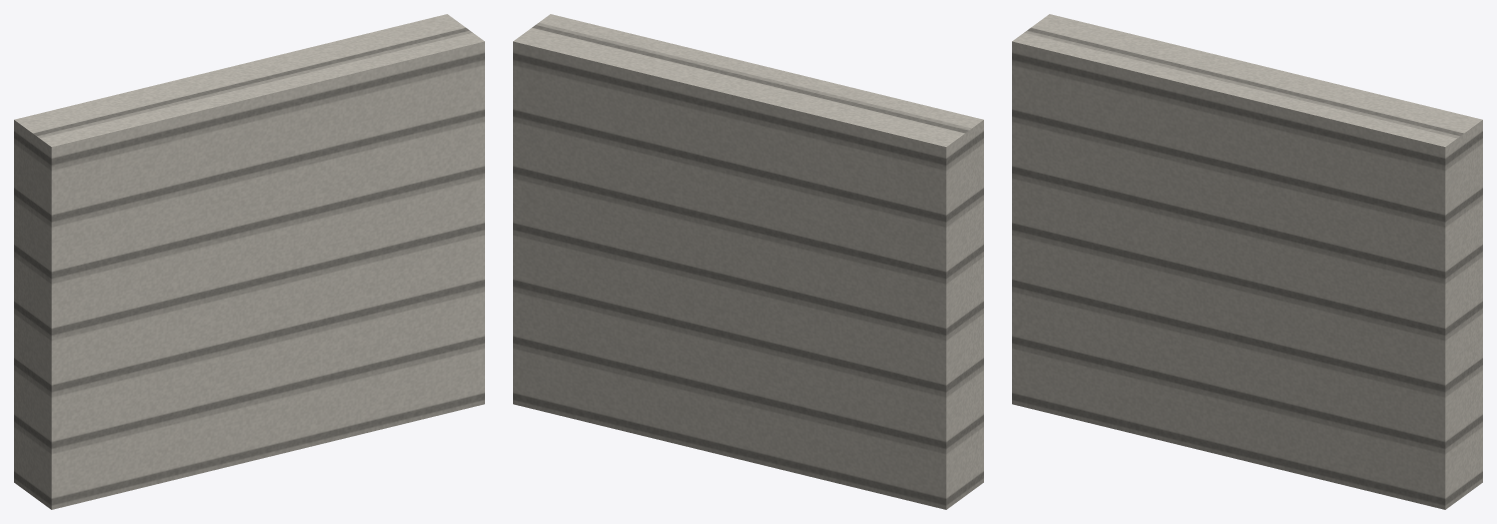
Rendered from mail_cubby_key_rack.glb.
3 renders of one model, left to right at view 1: azimuth 30°, elevation 25°; view 2: azimuth 150°, elevation 25°; view 3: azimuth 330°, elevation 25°, orthographic.
Parts seen in each view (by area): view 1: mail_cubby_key_rack-col; view 2: mail_cubby_key_rack-col; view 3: mail_cubby_key_rack-col.
Part boxes in pixels (x1=…): mail_cubby_key_rack-col: x1=14, y1=14, x2=484, y2=509; mail_cubby_key_rack-col: x1=513, y1=14, x2=983, y2=509; mail_cubby_key_rack-col: x1=1012, y1=14, x2=1482, y2=509.
Bounding box in the file's own units: 1 × 0.8 × 0.15.
1 material, 1 textured.
